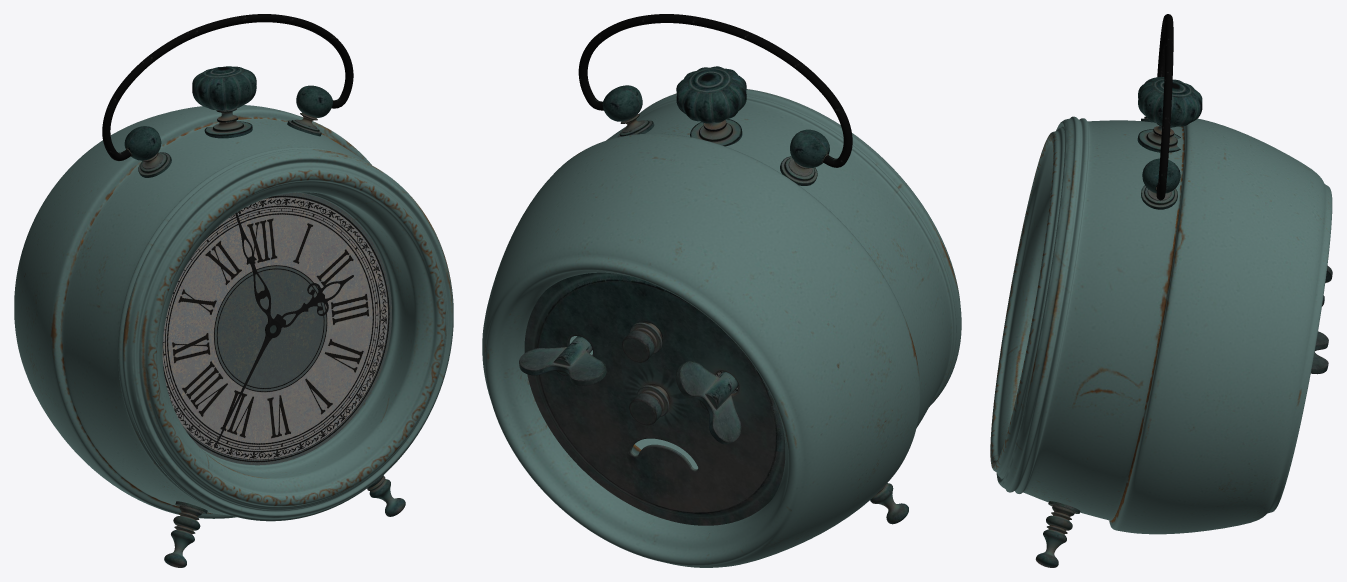
File: obj_clock_32b8dd.glb
The picture shows the model from 3 angles, left to right: view 1: azimuth 30°, elevation 25°; view 2: azimuth 150°, elevation 25°; view 3: azimuth 270°, elevation 25°; orthographic projection. The views are drawn at different scales.
Visible parts, largest first — view 1: obj_clock_32b8dd; view 2: obj_clock_32b8dd; view 3: obj_clock_32b8dd.
Boxes of the visible parts, left/top/right/bottom form: obj_clock_32b8dd: left=14, top=14, right=453, bottom=567; obj_clock_32b8dd: left=482, top=14, right=961, bottom=567; obj_clock_32b8dd: left=990, top=14, right=1332, bottom=567.
Size of what is drawn, in the model's own units: 0.0949 by 0.12 by 0.0774.
4 materials, 3 textured.
